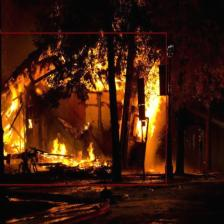fire: (0, 32, 167, 185)
